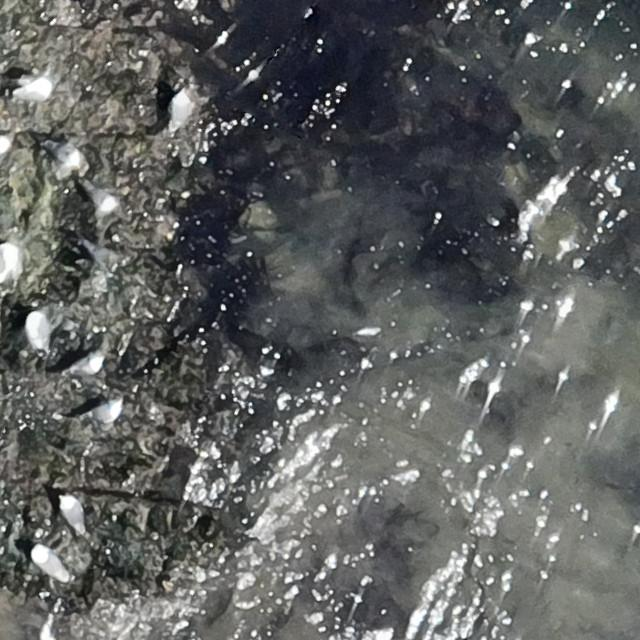umineko: (40, 131, 78, 167), (24, 309, 49, 356), (83, 180, 117, 211), (168, 89, 190, 136), (12, 78, 52, 103), (37, 549, 68, 578), (69, 353, 102, 380), (1, 242, 20, 280), (62, 497, 82, 533), (85, 402, 121, 422)
